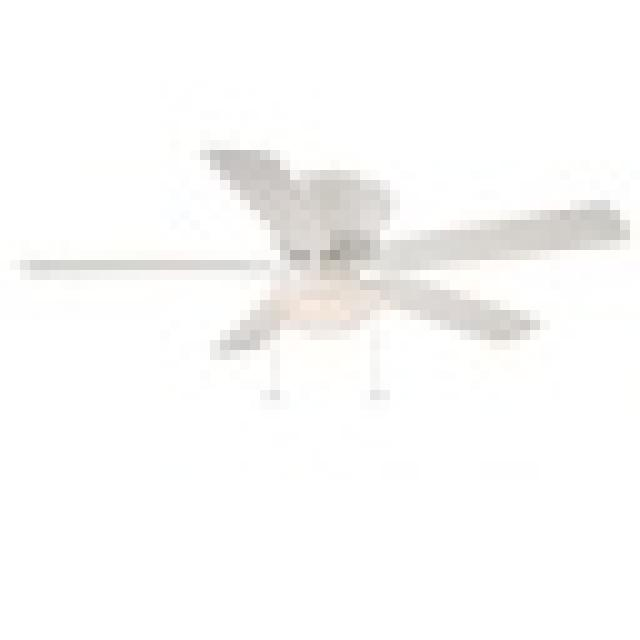Bulb: (37, 121, 630, 375)
